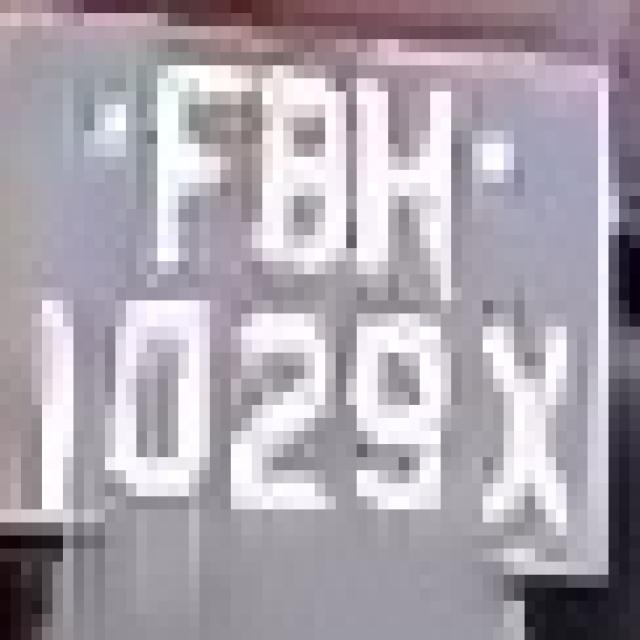0: (94, 235, 200, 562)
1: (0, 274, 105, 601)
2: (231, 248, 346, 549)
9: (346, 261, 462, 536)
B: (220, 39, 368, 340)
F: (136, 13, 252, 314)
H: (325, 13, 472, 314)
X: (451, 248, 588, 575)
